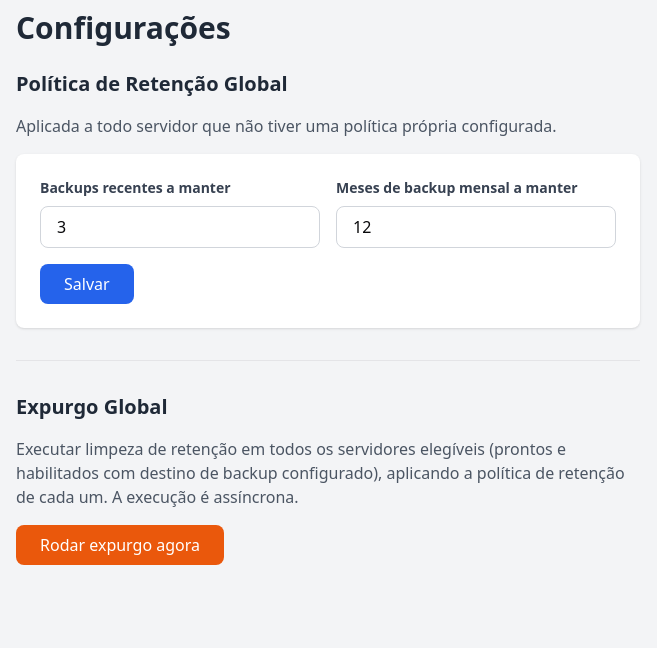
SettingsView › should save the policy and show a success message
Replace the text in the number field with test id "recent-count-input" with "5": {"x": 180, "y": 227} [40,206,320,248]
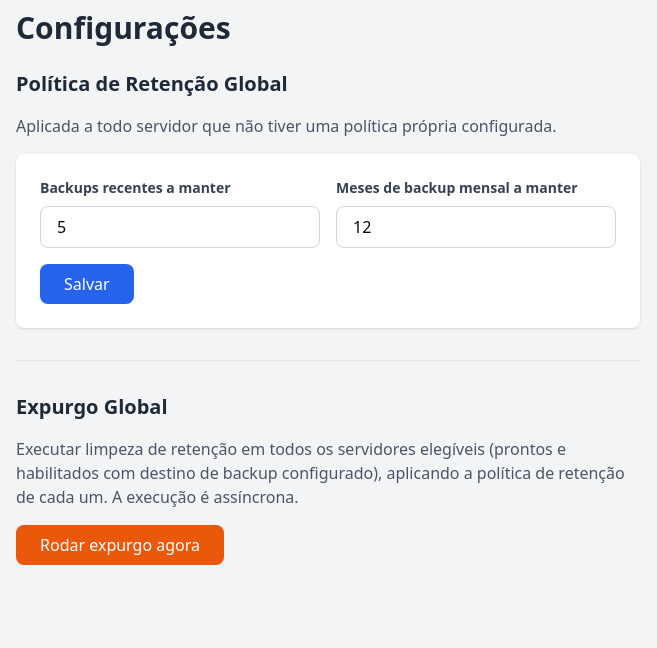
Submit the form with test id "retention-form", box [16,154,640,328]
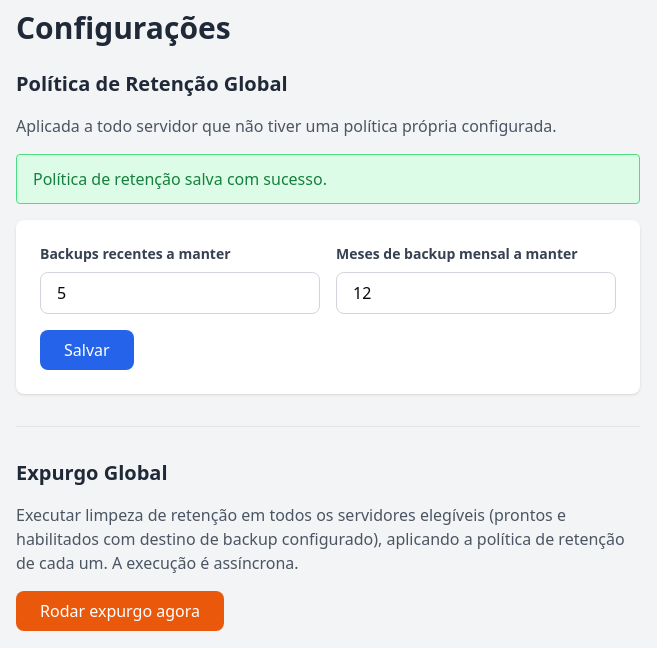
expect the text "Política de retenção salva com sucesso." is shown: met, box [16,154,640,204]
